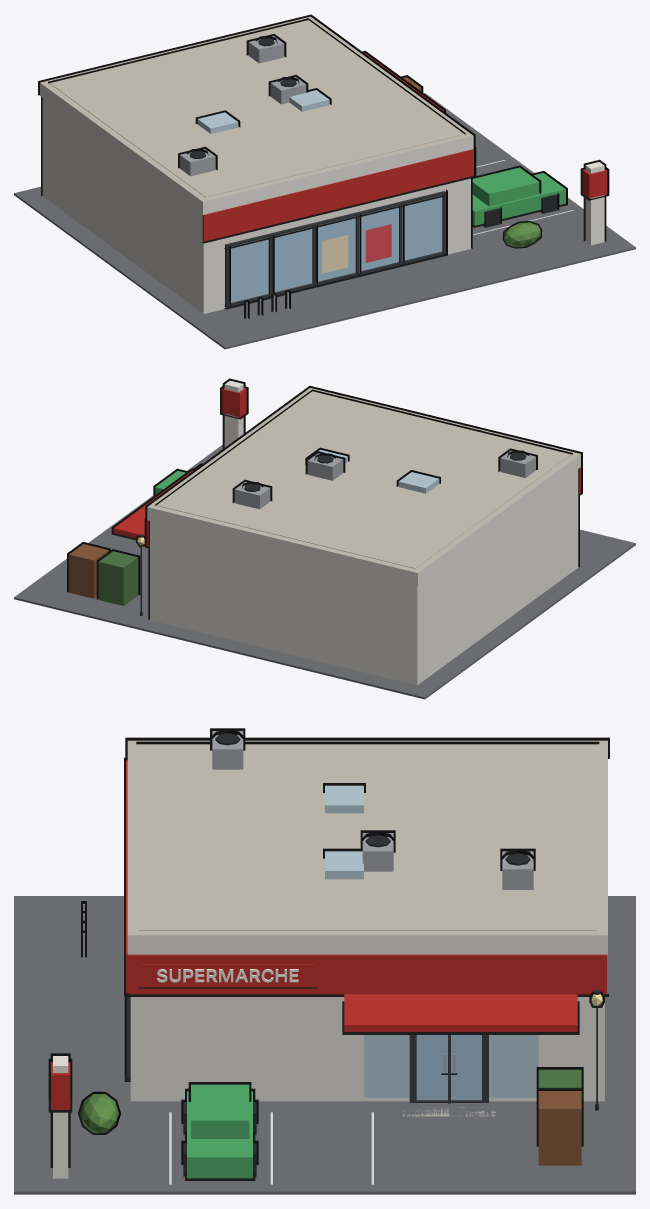
Rendered from Dukkan_cadde_market.fbx.
3 renders of one model, top to bottom at view 1: azimuth 30°, elevation 25°; view 2: azimuth 150°, elevation 25°; view 3: azimuth 270°, elevation 25°, orthographic. The views are drawn at different scales.
Parts seen in each view (by area): view 1: Dukkan_cadde_market; view 2: Dukkan_cadde_market; view 3: Dukkan_cadde_market.
Part boxes in pixels (x1,y1,x2,y2): Dukkan_cadde_market: [14, 14, 635, 349]; Dukkan_cadde_market: [14, 378, 635, 699]; Dukkan_cadde_market: [14, 728, 635, 1194].
Bounding box in the file's own units: 18 × 5.63 × 16.
